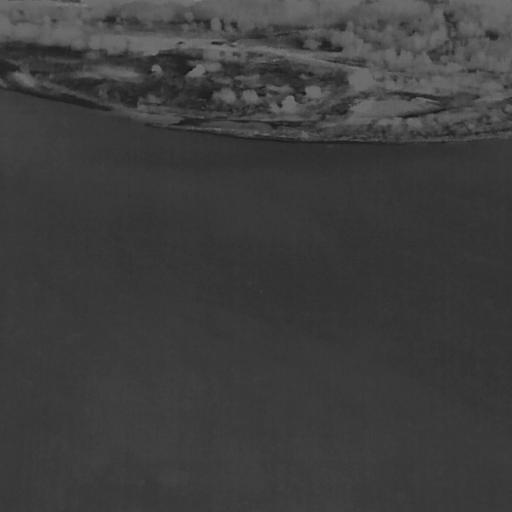uav: (257, 288, 265, 296)
